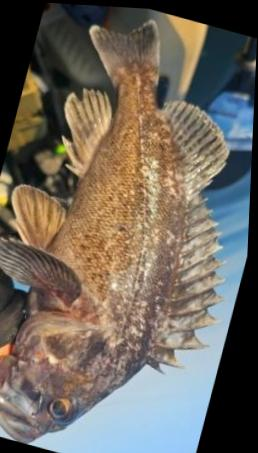fish: (0, 18, 231, 442)
